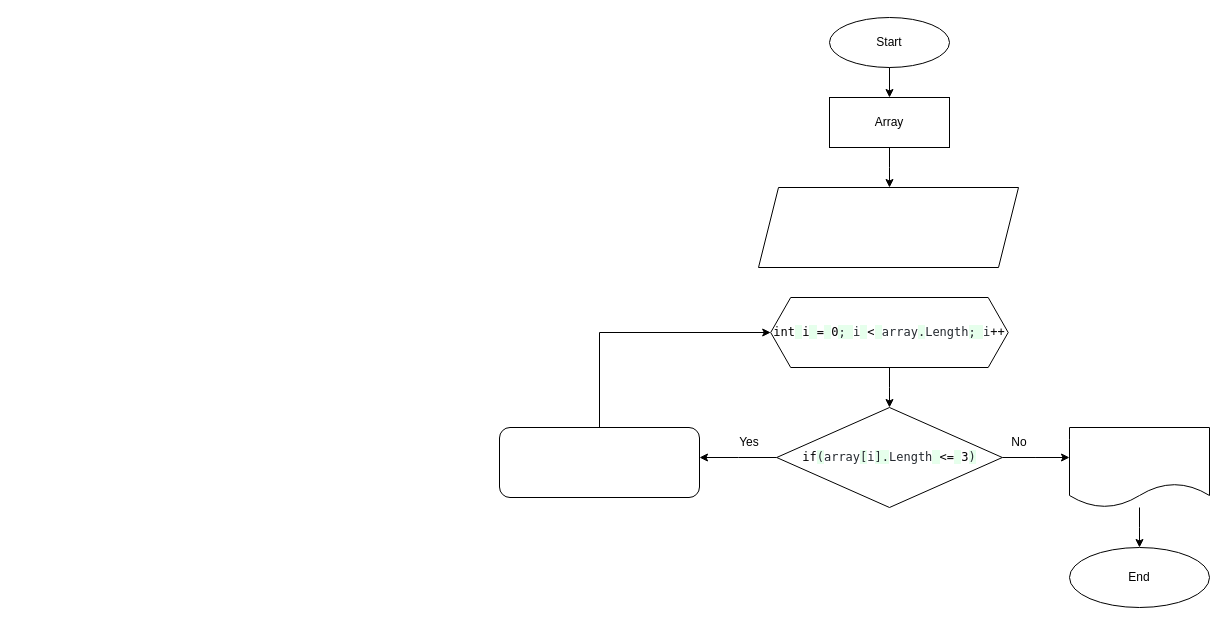
The diagram is 1227 pixels wide and 625 high, and some of its shapes have lost their labels. Each missing label, with the centre of its shape:
"Print result" belongs at pixel 1139 467.
"result [ count ] = array [ i ]; count ++ ;" belongs at pixel 599 462.
"string[] array string [] result int count = 0 ;" belongs at pixel 888 227.
